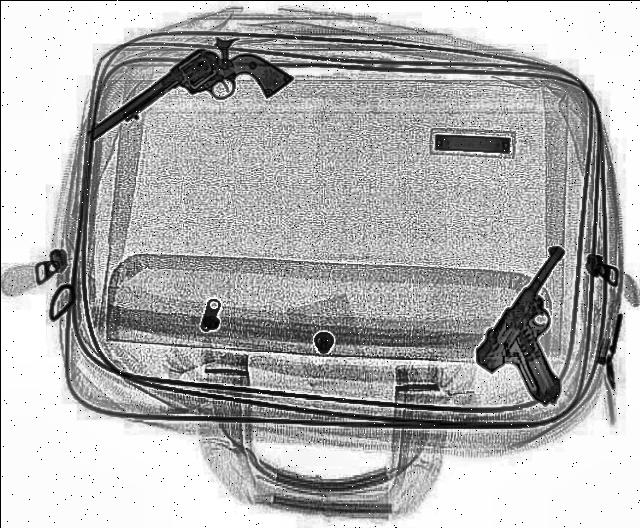Gun: (82, 28, 294, 186), (460, 244, 640, 410)
